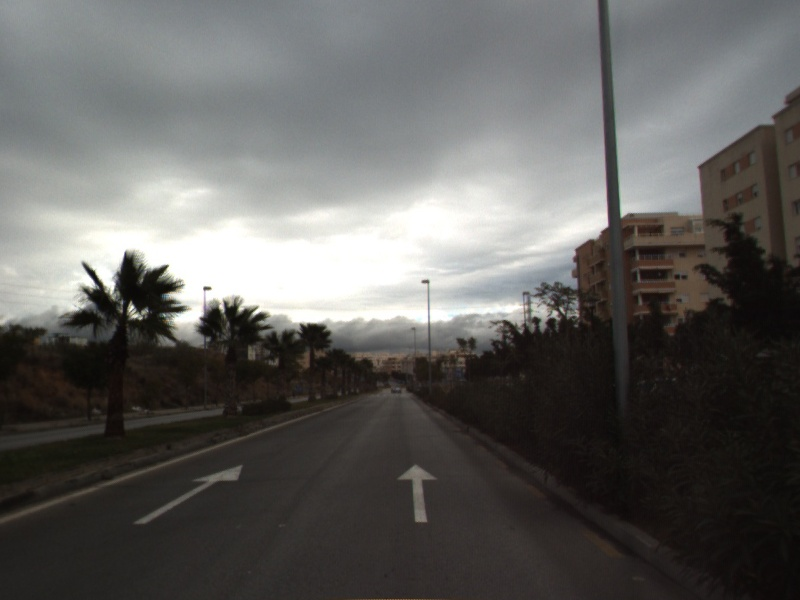STRAIGHT: (132, 463, 245, 526), (395, 462, 440, 525)
